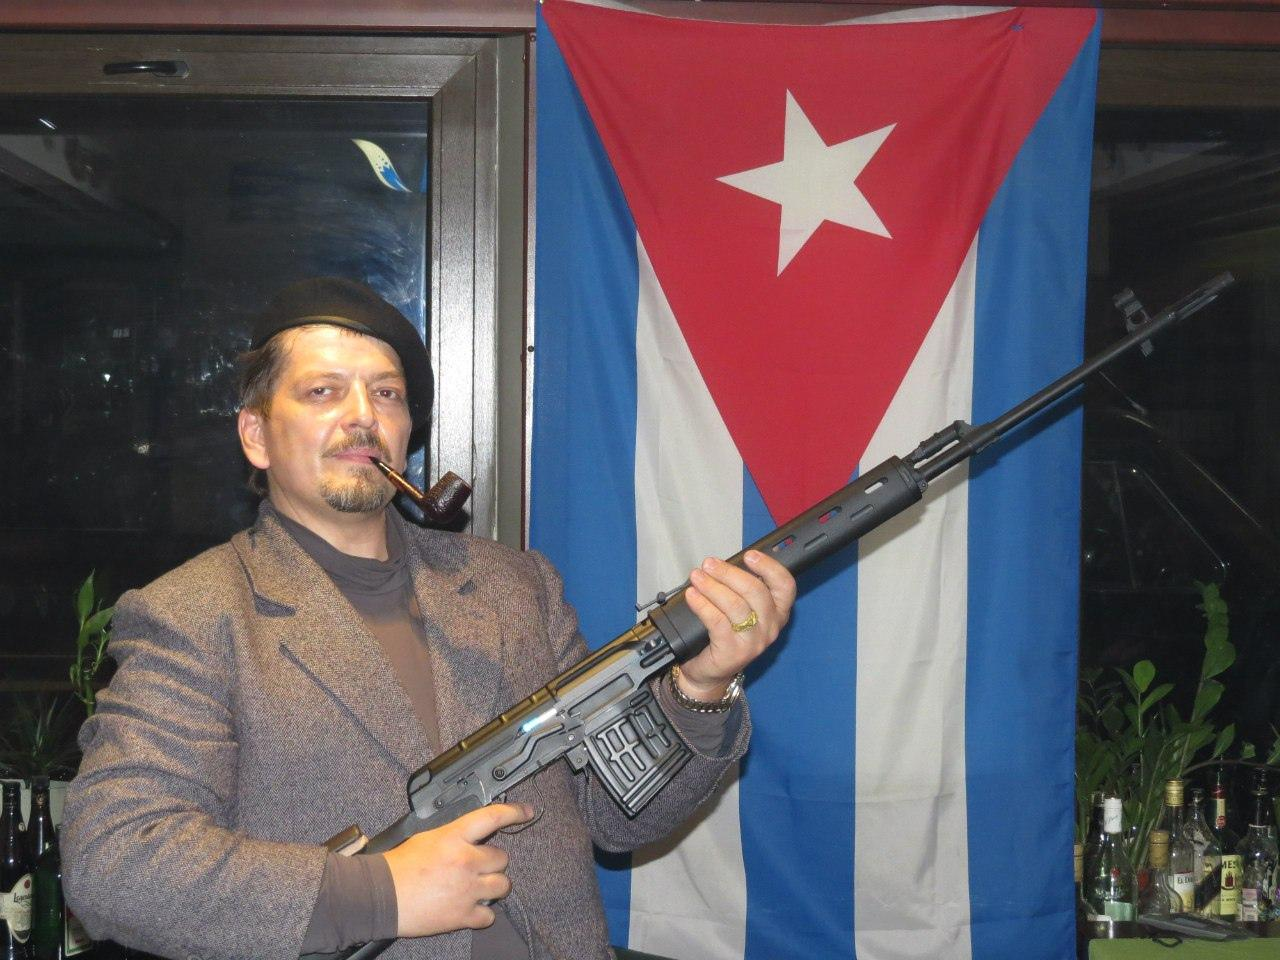trubka: (371, 457, 471, 526)
